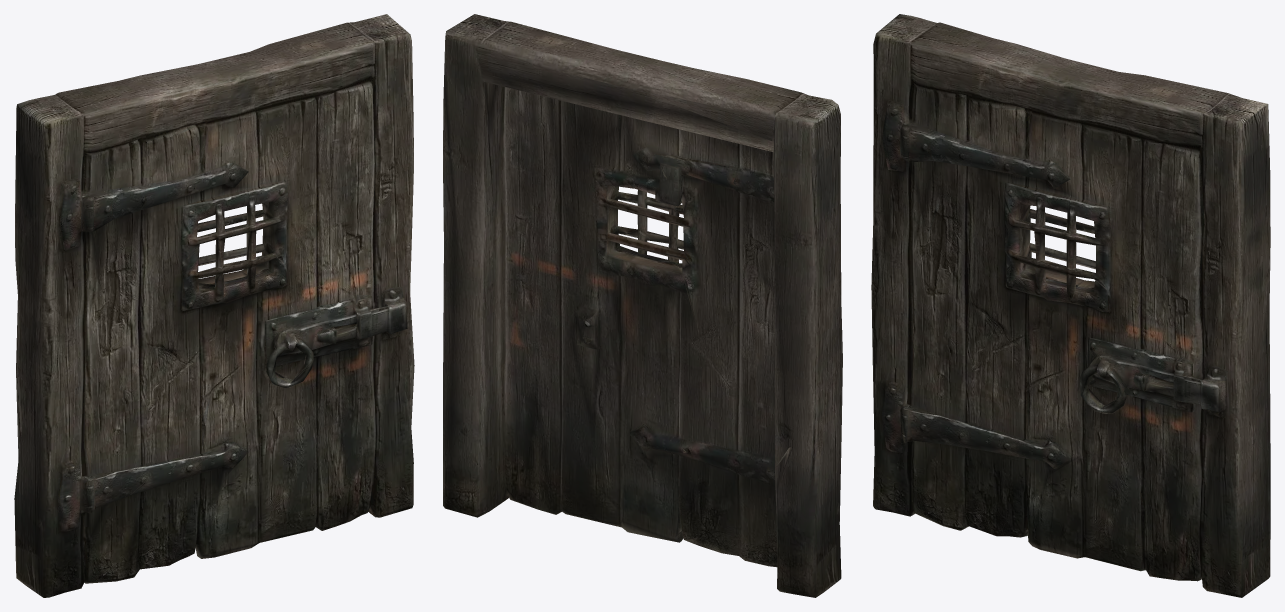
Rendered from door.glb.
3 views of the same model, side by side, from view 1: azimuth 30°, elevation 25°; view 2: azimuth 150°, elevation 25°; view 3: azimuth 330°, elevation 25° (orthographic).
Visible parts, largest first — view 1: Mesh_0; view 2: Mesh_0; view 3: Mesh_0.
Part boxes in pixels (x1,y1,x2,y2): Mesh_0: (14, 14, 414, 597); Mesh_0: (443, 14, 842, 597); Mesh_0: (871, 14, 1270, 597).
Bounding box in the file's own units: 1.55 × 1.9 × 0.2972.
Materials: 1 (1 with a texture image).
